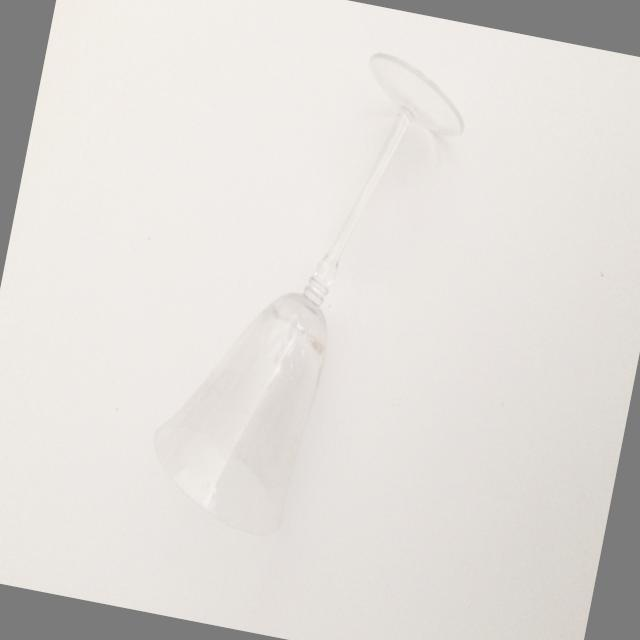Glass: (122, 13, 490, 574)
